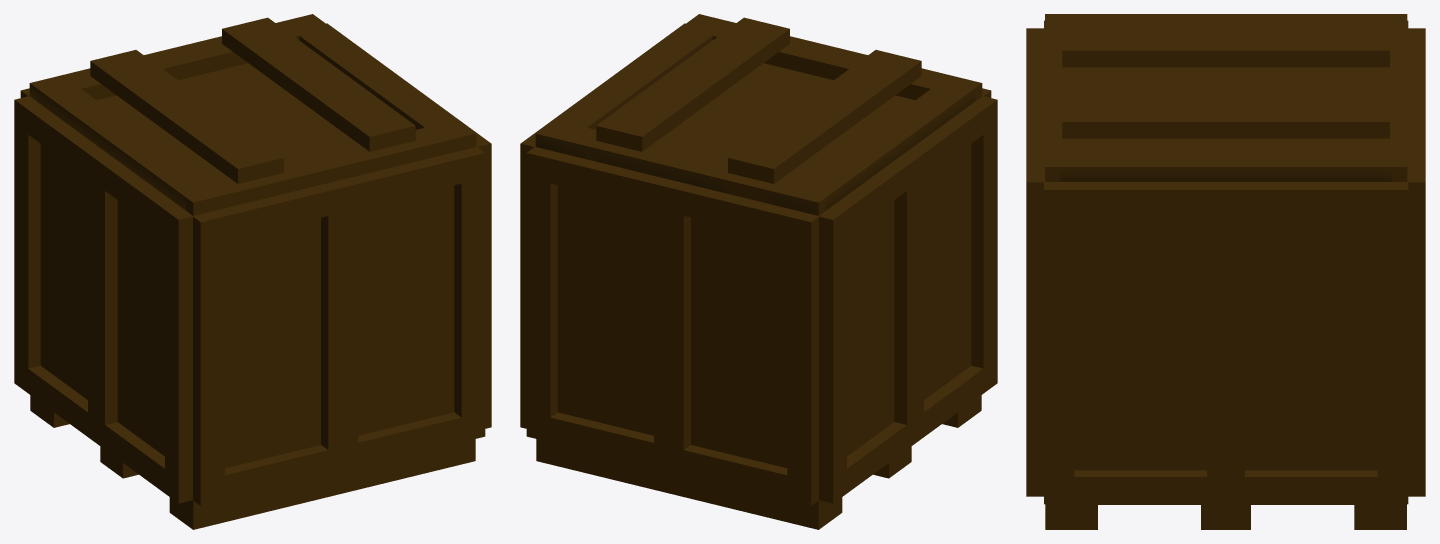
The model's file is caja_partes.fbx.
The picture shows the model from 3 angles, left to right: view 1: azimuth 30°, elevation 25°; view 2: azimuth 150°, elevation 25°; view 3: azimuth 270°, elevation 25°; orthographic projection. The views are drawn at different scales.
Parts seen in each view (by area): view 1: pasted__pCube9, pCube9, pCube10, pCube11; view 2: pasted__pCube9, pCube9, pCube10, pCube11; view 3: pCube9, pCube10, pasted__pCube9, pCube11.
Part boxes in pixels (left/top/right/bottom): pasted__pCube9: left=20, top=88, right=485, bottom=505; pCube9: left=14, top=23, right=491, bottom=503; pCube10: left=29, top=14, right=476, bottom=215; pCube11: left=30, top=395, right=475, bottom=529; pasted__pCube9: left=526, top=88, right=991, bottom=505; pCube9: left=520, top=23, right=997, bottom=503; pCube10: left=535, top=14, right=982, bottom=215; pCube11: left=536, top=395, right=981, bottom=529; pCube9: left=1044, top=20, right=1408, bottom=504; pCube10: left=1045, top=14, right=1407, bottom=181; pasted__pCube9: left=1026, top=28, right=1425, bottom=496; pCube11: left=1045, top=504, right=1406, bottom=529.
Size of the model in its own units: 4.37 by 4.57 by 4.35.
